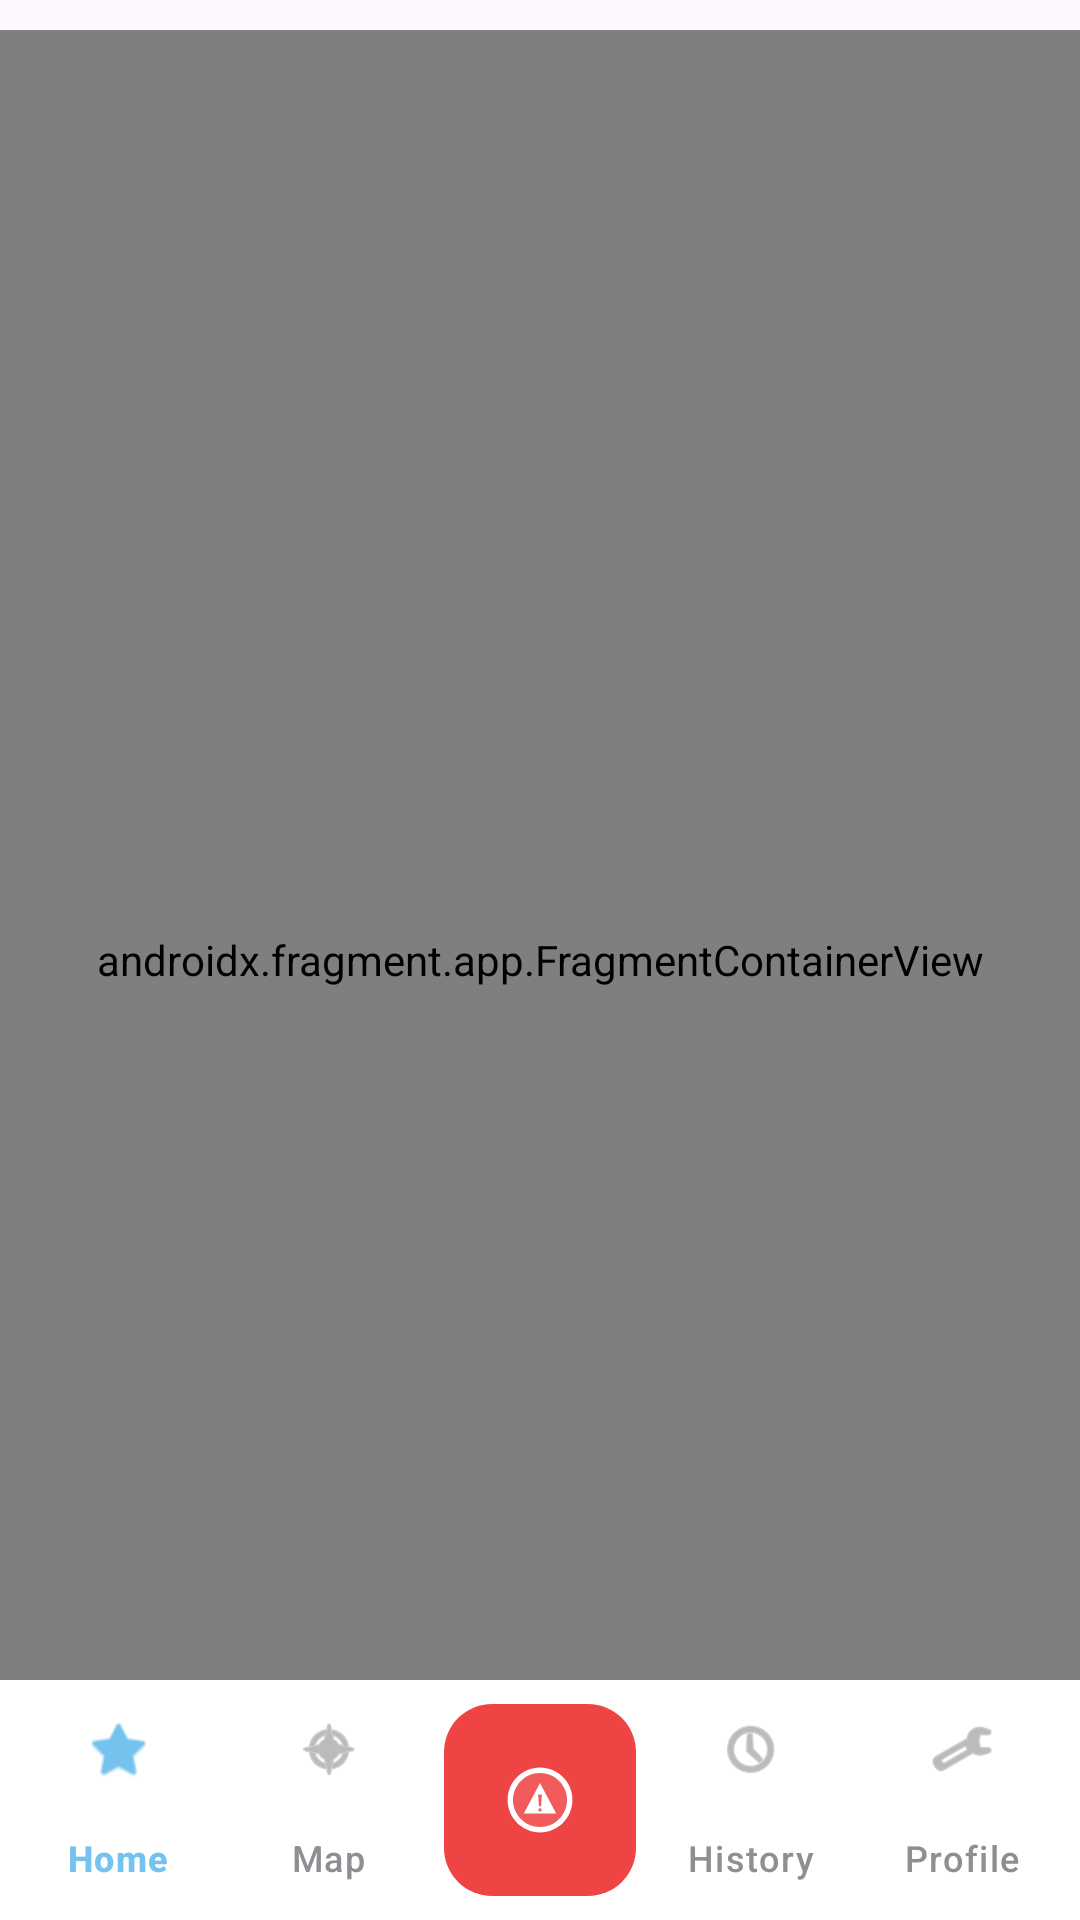

Named icons in this screenshot (1080 x 1920) and their centers, (x,y):
danger zone: (540,1812)
